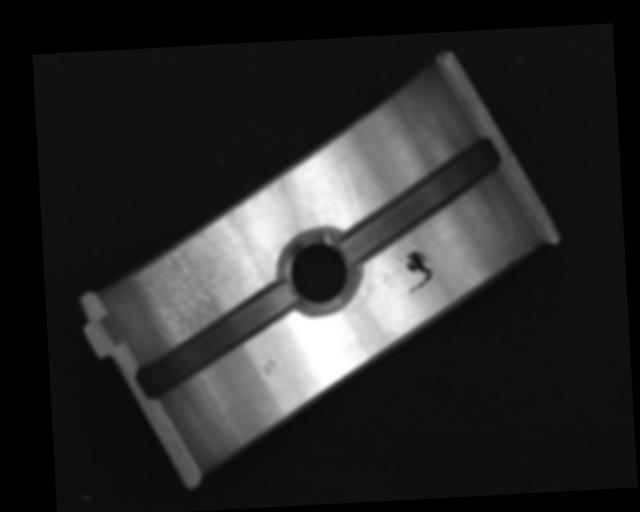blot: (403, 247, 435, 295)
bruise: (258, 358, 279, 379)
gap: (338, 137, 510, 260), (132, 285, 297, 398)
hole: (278, 227, 363, 316)
nick: (342, 162, 357, 208)
scratch: (128, 223, 252, 343)
